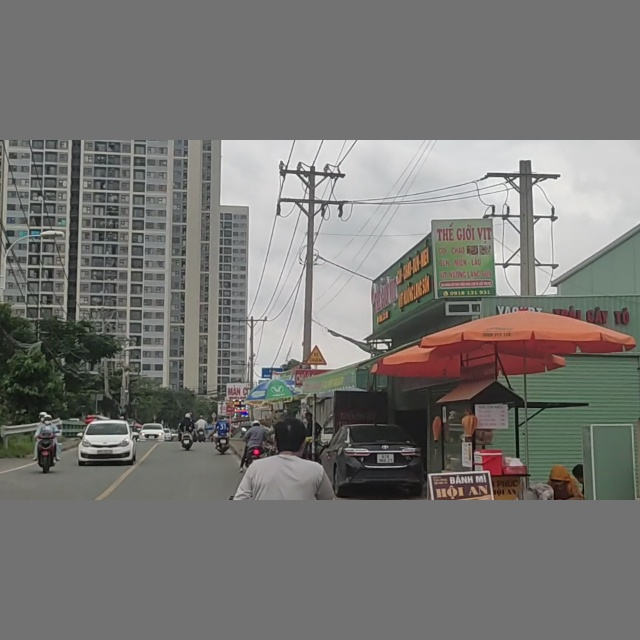W.245a: (304, 343, 328, 366)
